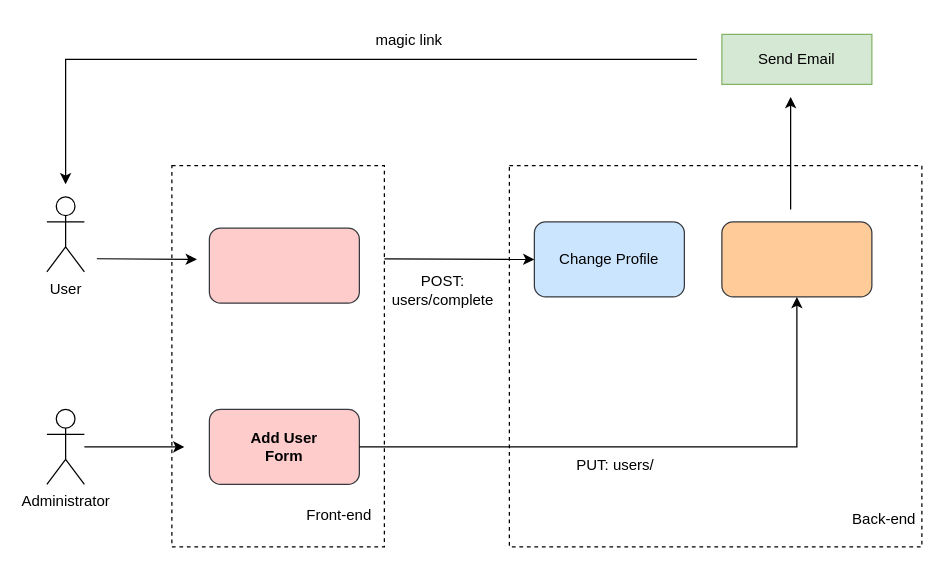
This 944x569 diagram has some shape labels left out. Each missing label, with the centre of its shape:
"Complete Profile Form" goes at point 283,265.
"Prepare User" goes at point 796,259.
